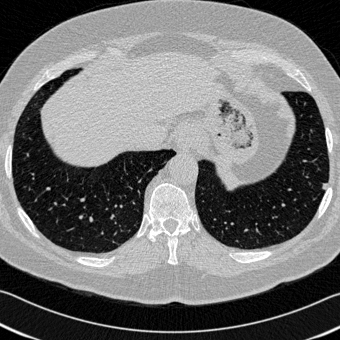nodule: (321, 182, 329, 190)
